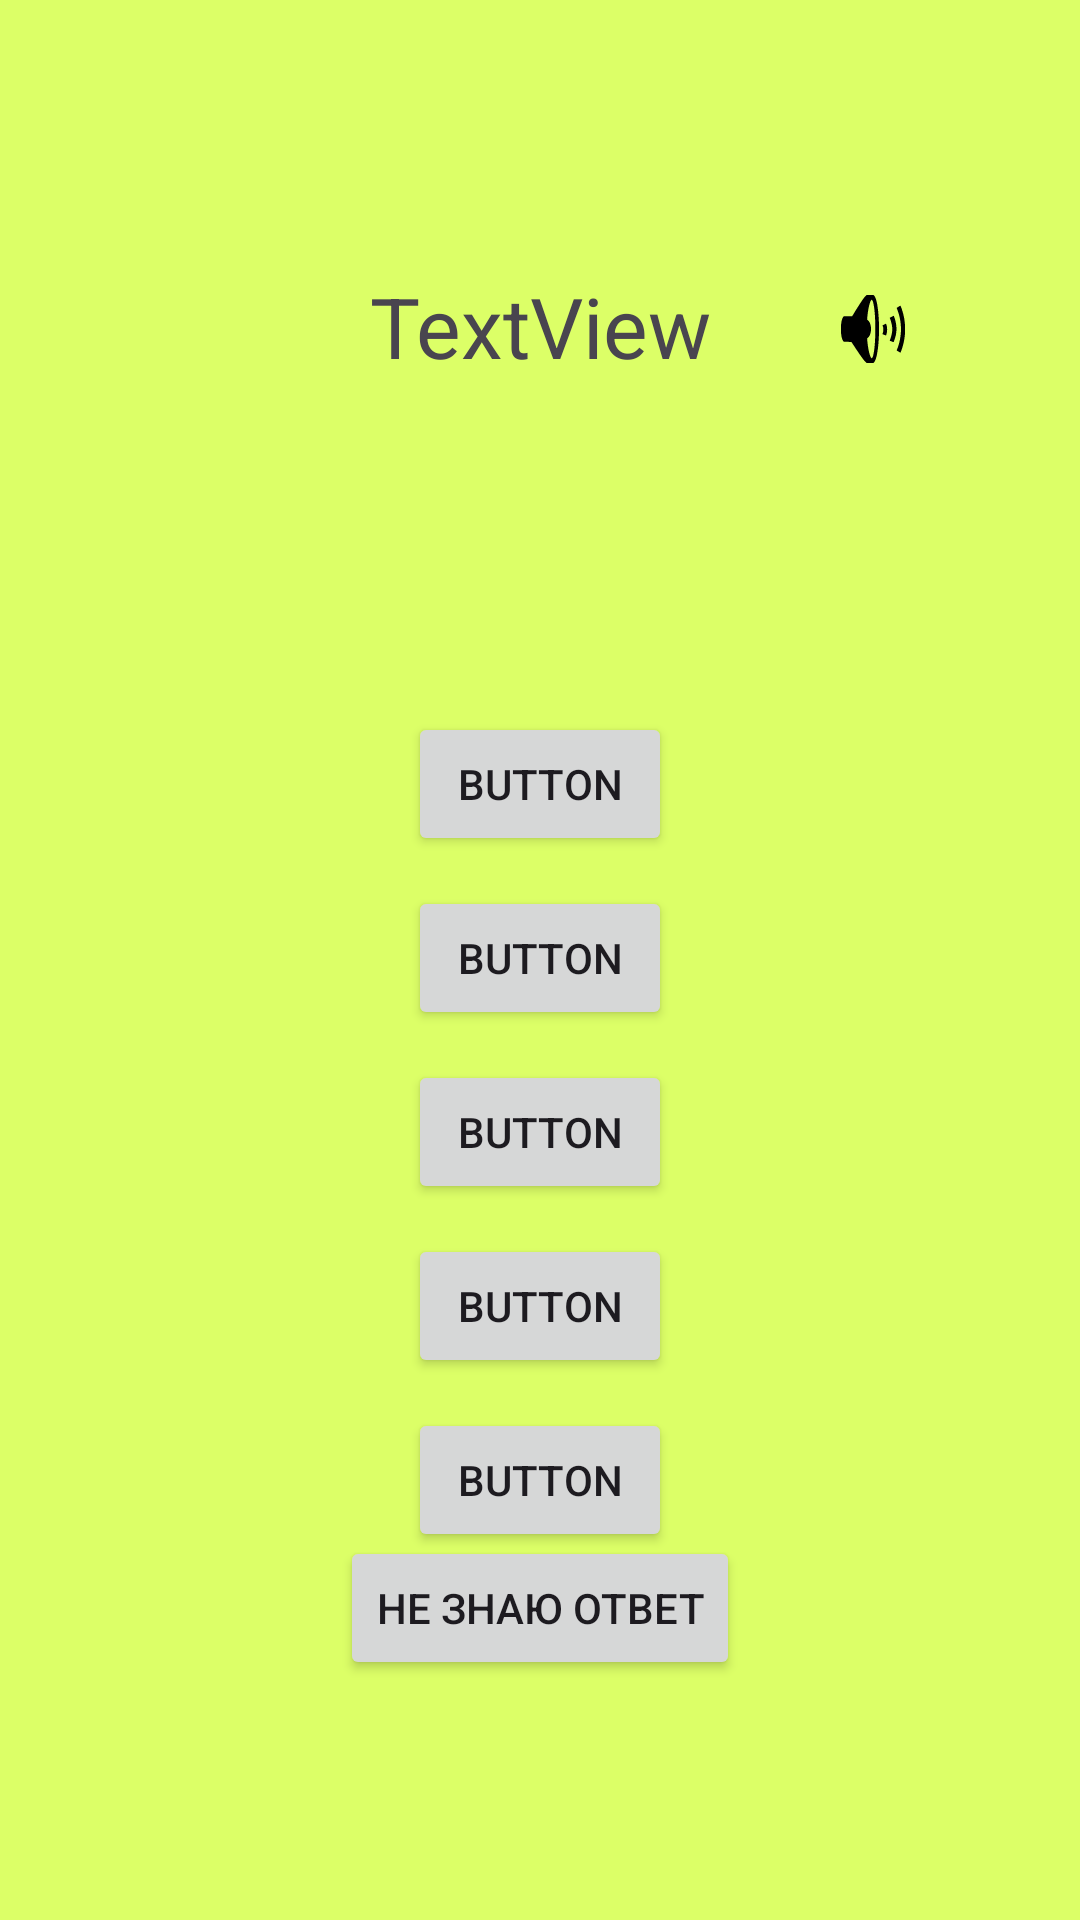

Icon bounding boxes for this 1080×1920 phone screenshot, format (x1, y1, x2, y2):
lock silent mode off: (841, 295, 905, 363)
